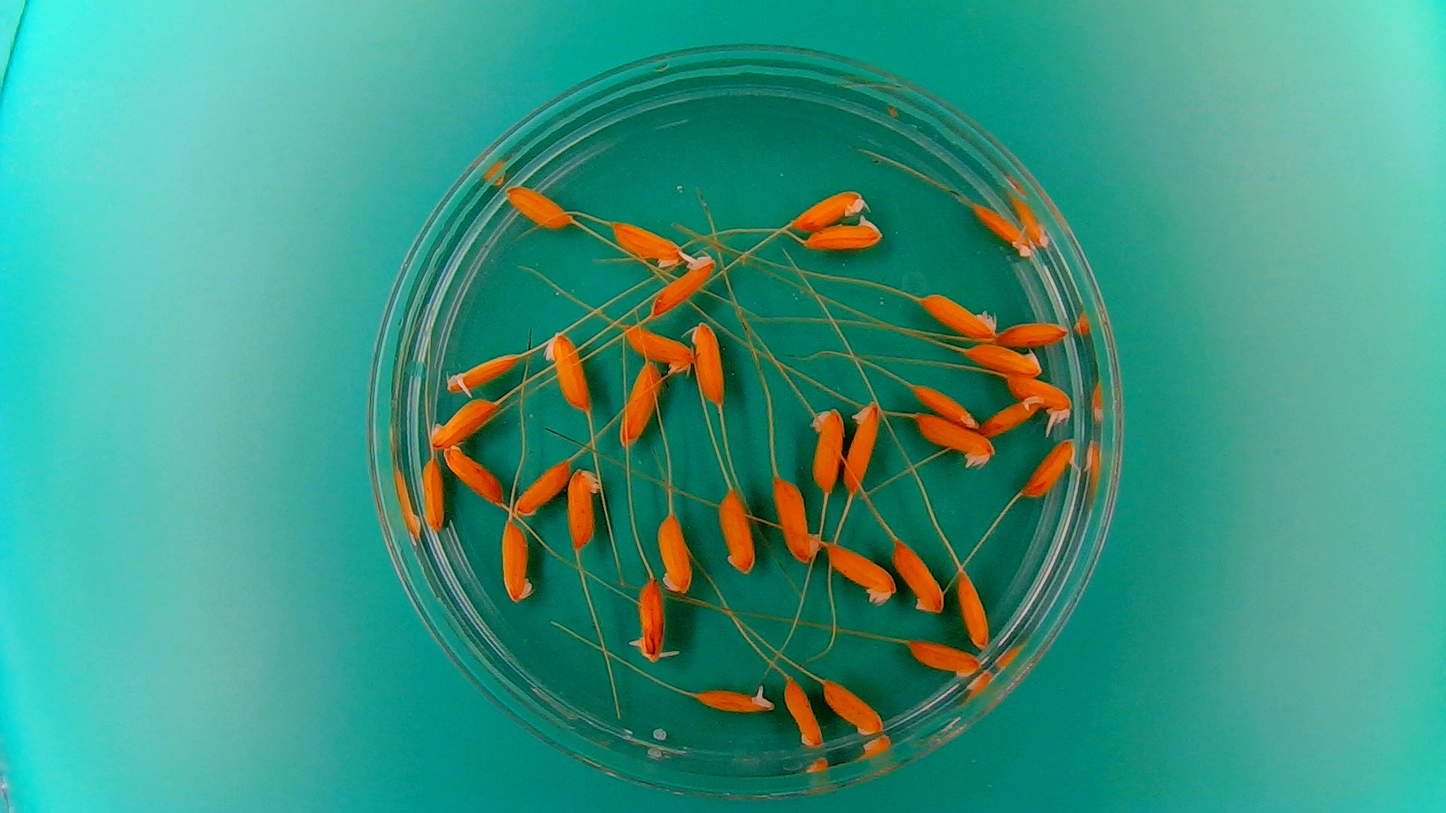no: (770, 474, 822, 563), (825, 541, 895, 607), (905, 379, 981, 437), (890, 539, 947, 615), (424, 394, 502, 449), (441, 441, 505, 507), (541, 327, 590, 413), (618, 358, 664, 448), (820, 677, 885, 738), (607, 219, 686, 269), (920, 290, 996, 341), (786, 185, 869, 230), (971, 199, 1035, 257), (502, 181, 574, 232), (717, 488, 758, 577), (903, 636, 982, 681), (807, 404, 846, 494), (513, 457, 572, 516), (841, 400, 880, 489), (688, 318, 727, 405), (657, 512, 695, 596), (498, 520, 535, 606), (954, 567, 991, 651), (782, 678, 824, 751), (567, 464, 602, 550), (965, 341, 1041, 377), (981, 396, 1042, 437), (417, 453, 447, 534), (993, 317, 1070, 347)
yes: (911, 410, 998, 470), (645, 250, 717, 321), (443, 348, 526, 399), (621, 323, 694, 376), (1021, 436, 1078, 500), (1003, 373, 1073, 425), (630, 577, 670, 665), (801, 212, 886, 251), (692, 681, 775, 717)
